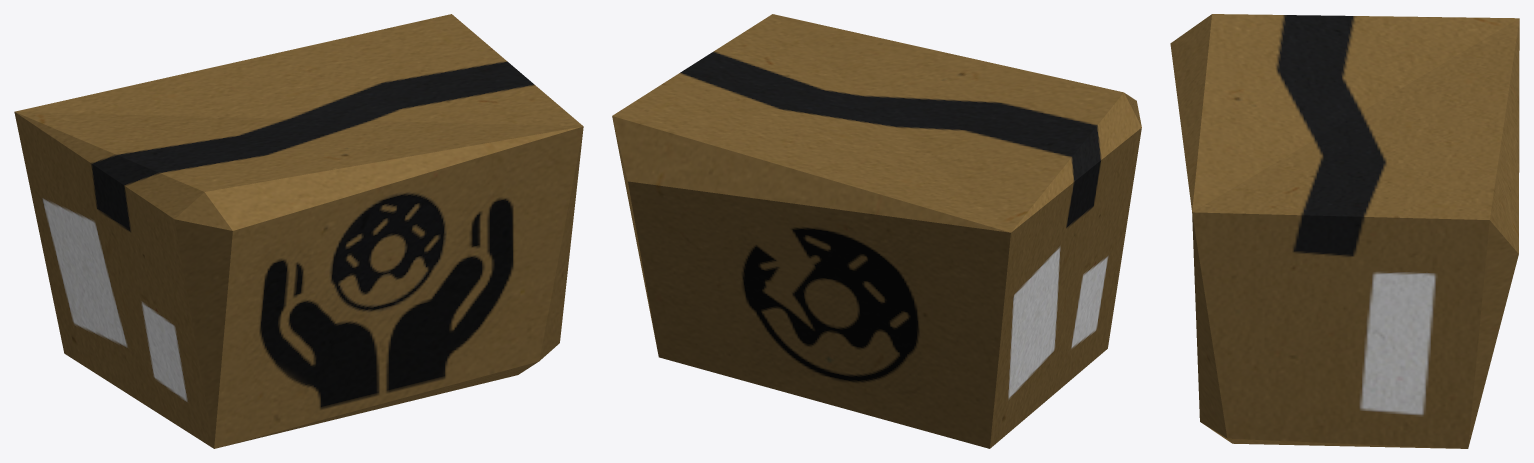
The model's file is Prop_CardboardBox.FBX.
3 renders of one model, left to right at view 1: azimuth 30°, elevation 25°; view 2: azimuth 150°, elevation 25°; view 3: azimuth 270°, elevation 25°, orthographic. The views are drawn at different scales.
Visible parts, largest first — view 1: Prop_CardboardBox; view 2: Prop_CardboardBox; view 3: Prop_CardboardBox.
Part boxes in pixels (x1,y1,x2,y2): Prop_CardboardBox: [14, 14, 583, 448]; Prop_CardboardBox: [612, 14, 1141, 448]; Prop_CardboardBox: [1170, 14, 1519, 448].
Size of the model in its own units: 35.91 by 21.87 by 25.55.
